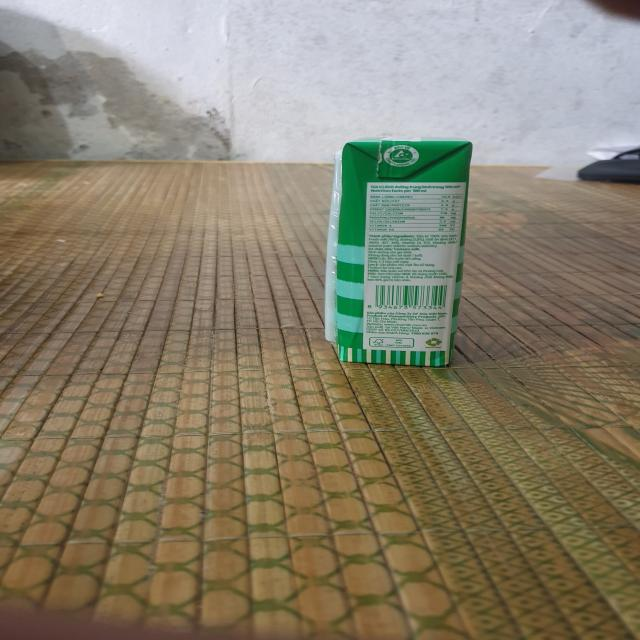Vina: (320, 136, 483, 369)
